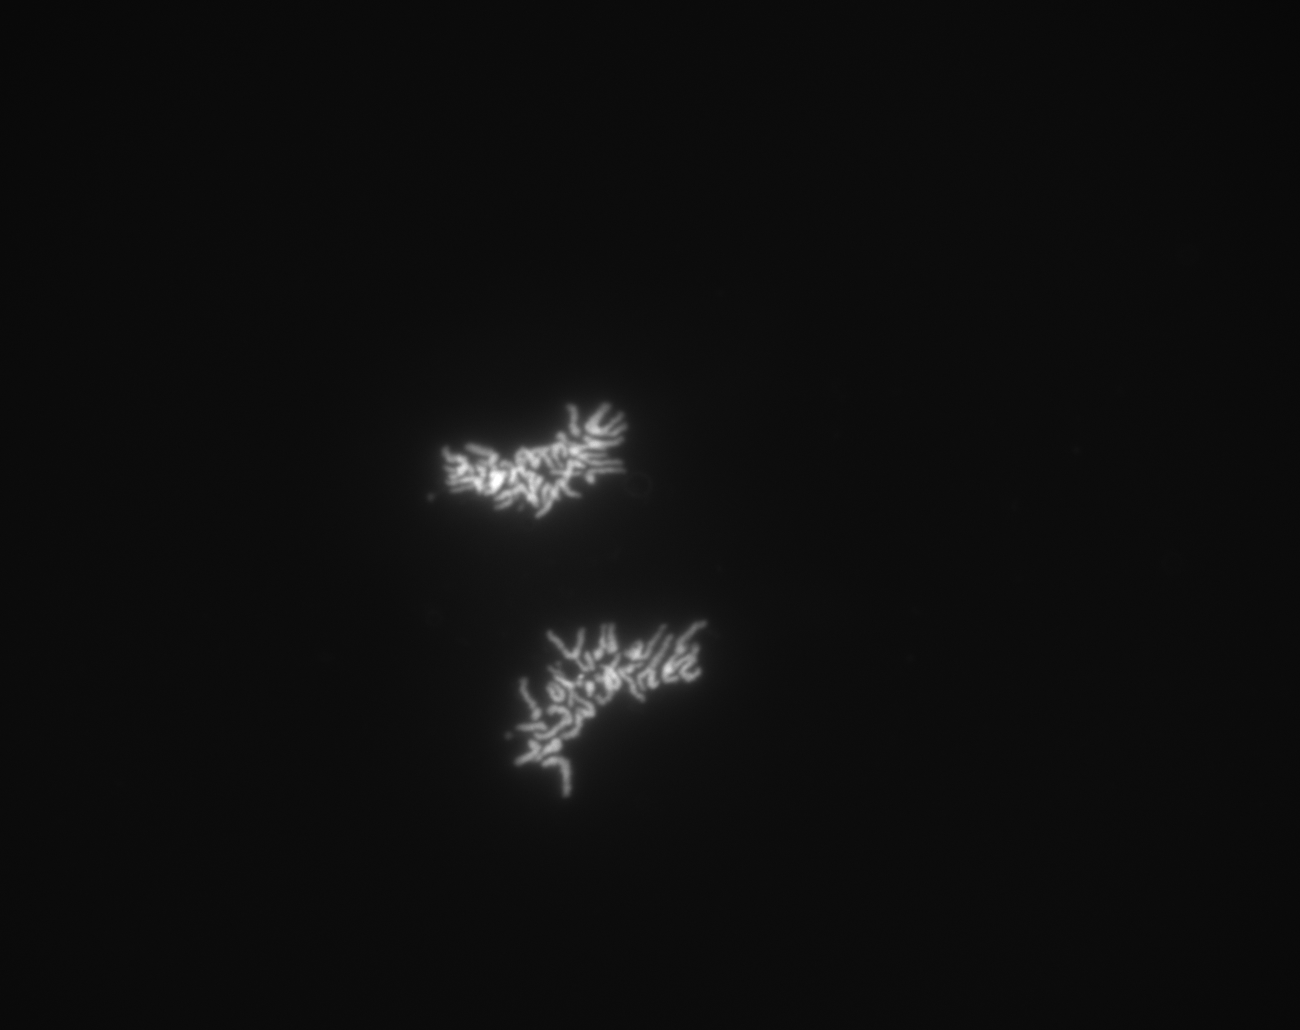Chromosomes: (522, 592, 723, 756), (428, 379, 626, 527)
